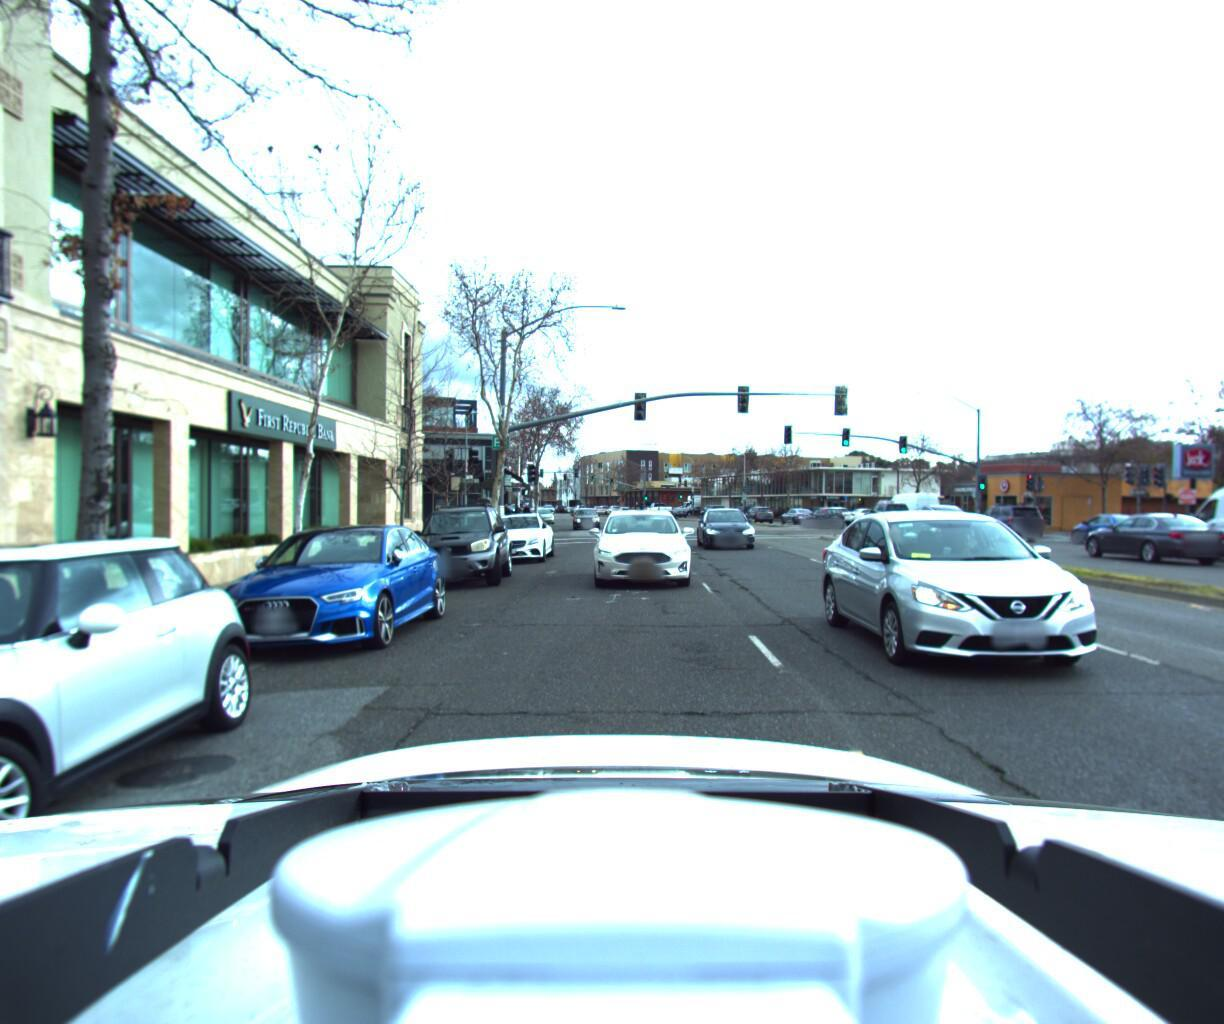car: (0, 535, 270, 998), (832, 497, 1222, 716), (179, 521, 461, 671), (397, 502, 524, 592), (594, 507, 700, 590), (1062, 513, 1216, 563), (1159, 469, 1224, 566), (476, 510, 556, 565), (1060, 513, 1155, 545), (695, 506, 762, 552), (958, 503, 1037, 540), (894, 504, 966, 541), (874, 491, 942, 526), (857, 499, 922, 530), (798, 502, 841, 524), (812, 505, 852, 524), (844, 507, 890, 522), (570, 508, 601, 530), (742, 504, 776, 523), (776, 508, 815, 524), (529, 507, 554, 524)
